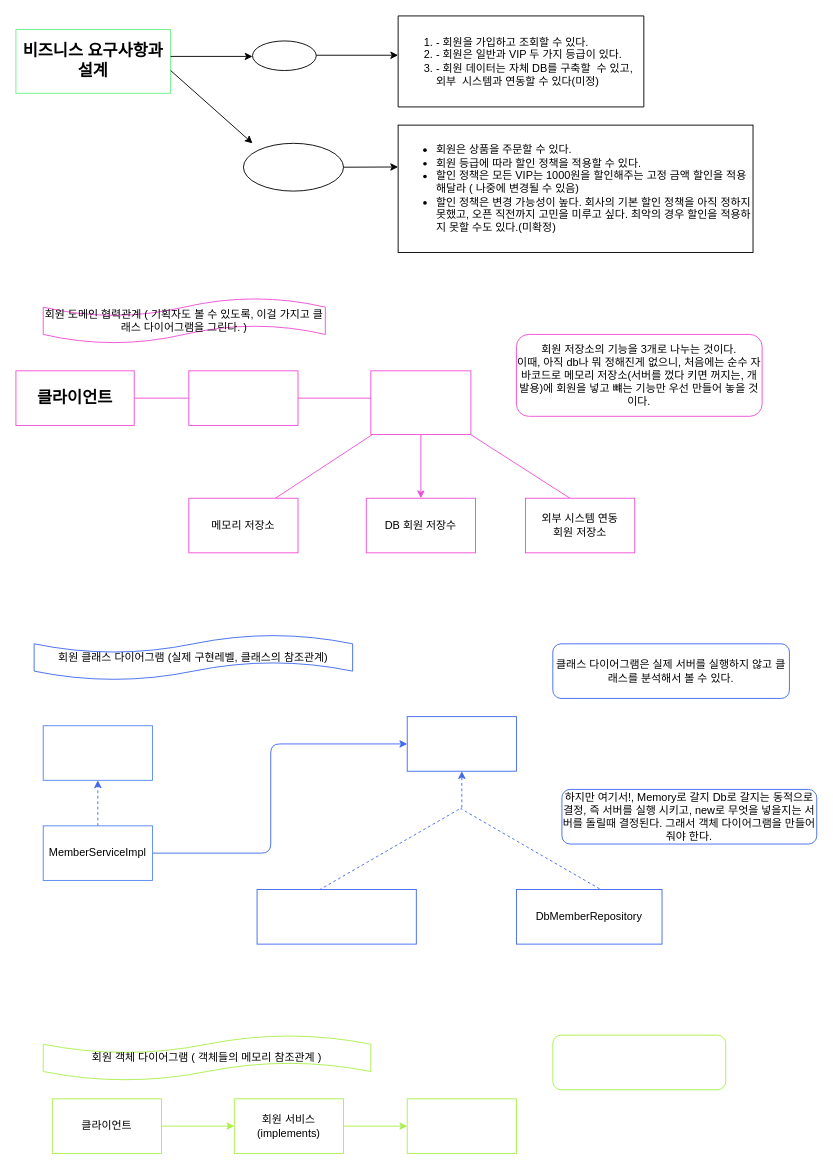
Some shapes in this 833 by 1169 pixel diagram are drawn without their labels. The centre of each missing label's shape, as x and y in pixels:
<interface> MemberRepository: the point at 461,743
<interface> MemberService: the point at 97,752
MemoryMemberRepository: the point at 336,916
메모리 회원저장소: the point at 461,1125
인스턴스끼리의 참조!: the point at 639,1062
주문과 할인정책: the point at 293,166
회원: the point at 284,55
회원 서비스 - 회원 가입 - 회원 조회: the point at 243,397
회원 저장소: the point at 420,402
